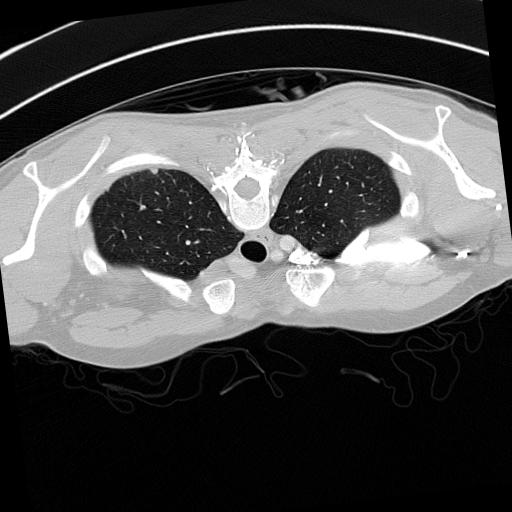nodule: (148, 166, 161, 179)
